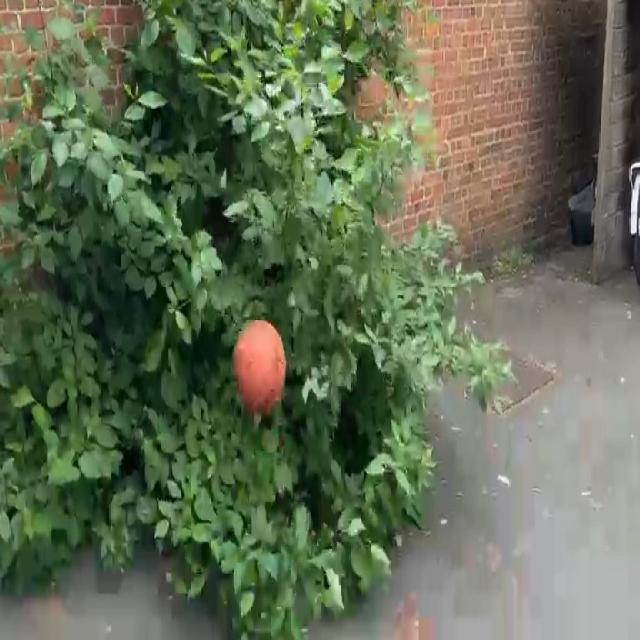Basketball: (236, 320, 286, 412)
